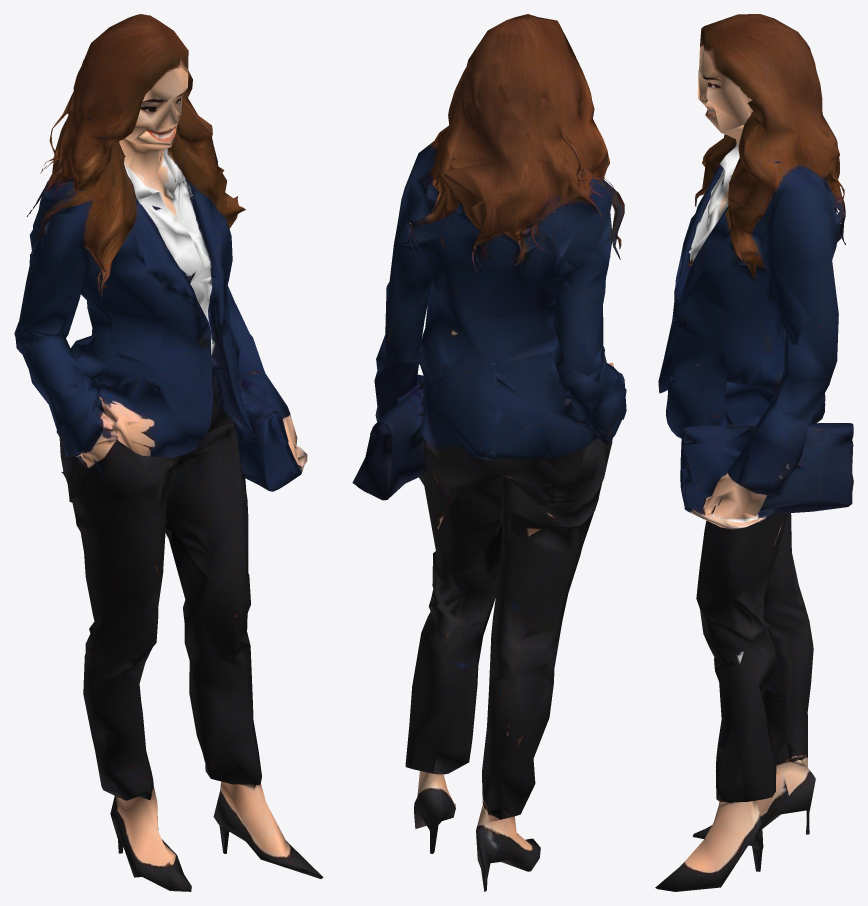
The model's file is female_worker.glb.
3 renders of one model, left to right at view 1: azimuth 30°, elevation 25°; view 2: azimuth 150°, elevation 25°; view 3: azimuth 270°, elevation 25°, orthographic. The views are drawn at different scales.
Size of the model in its own units: 0.6051 by 1.9 by 0.419.
1 material, 1 textured.
